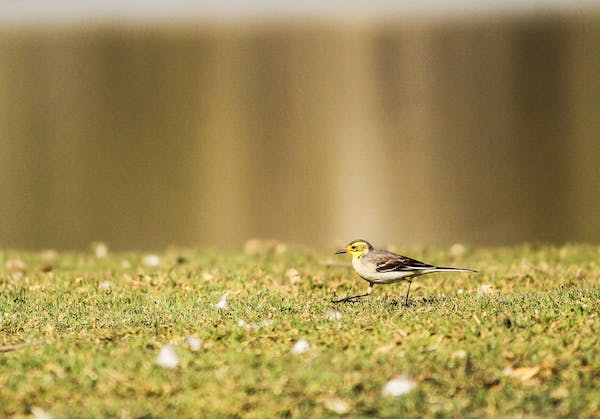Walking: (318, 235, 498, 322)
